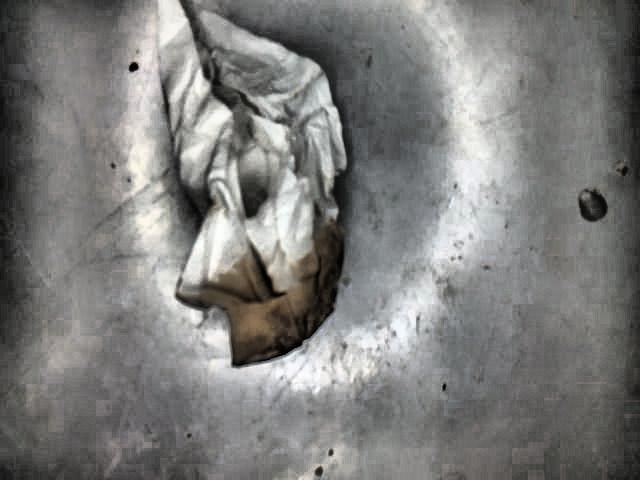Paper: (158, 0, 352, 368)
